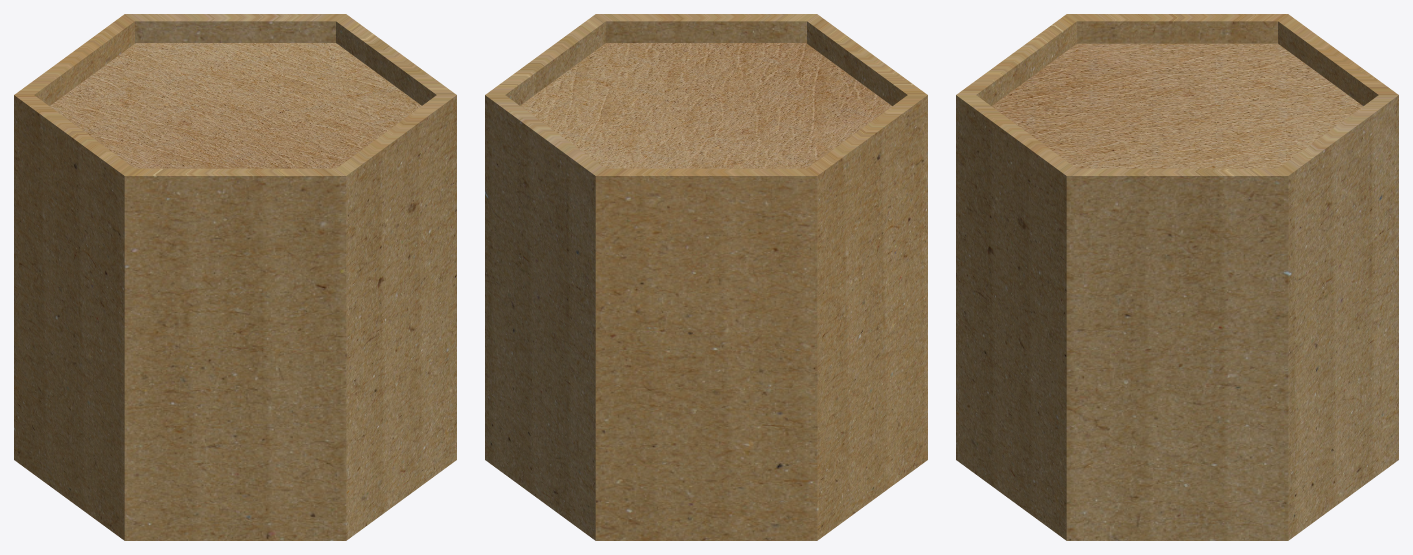
The model's file is Model21Third.gltf.
3 views of the same model, side by side, from view 1: azimuth 30°, elevation 25°; view 2: azimuth 150°, elevation 25°; view 3: azimuth 270°, elevation 25° (orthographic).
Visible parts, largest first — view 1: Cylinder, Cylinder.001; view 2: Cylinder, Cylinder.001; view 3: Cylinder, Cylinder.001.
Part boxes in pixels (left/top/right/bottom): Cylinder: left=14, top=14, right=456, bottom=540; Cylinder.001: left=49, top=43, right=421, bottom=168; Cylinder: left=485, top=14, right=927, bottom=540; Cylinder.001: left=520, top=43, right=892, bottom=168; Cylinder: left=956, top=14, right=1398, bottom=540; Cylinder.001: left=991, top=43, right=1363, bottom=168.
Bounding box in the file's own units: 1.91 × 2 × 2.2.
4 materials, 4 textured.
